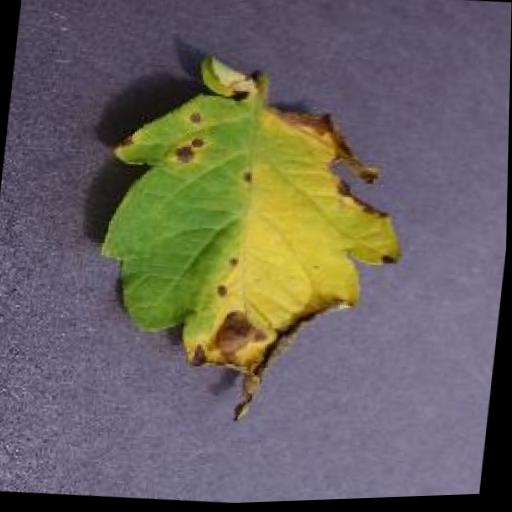Septoria: (81, 46, 422, 436)
